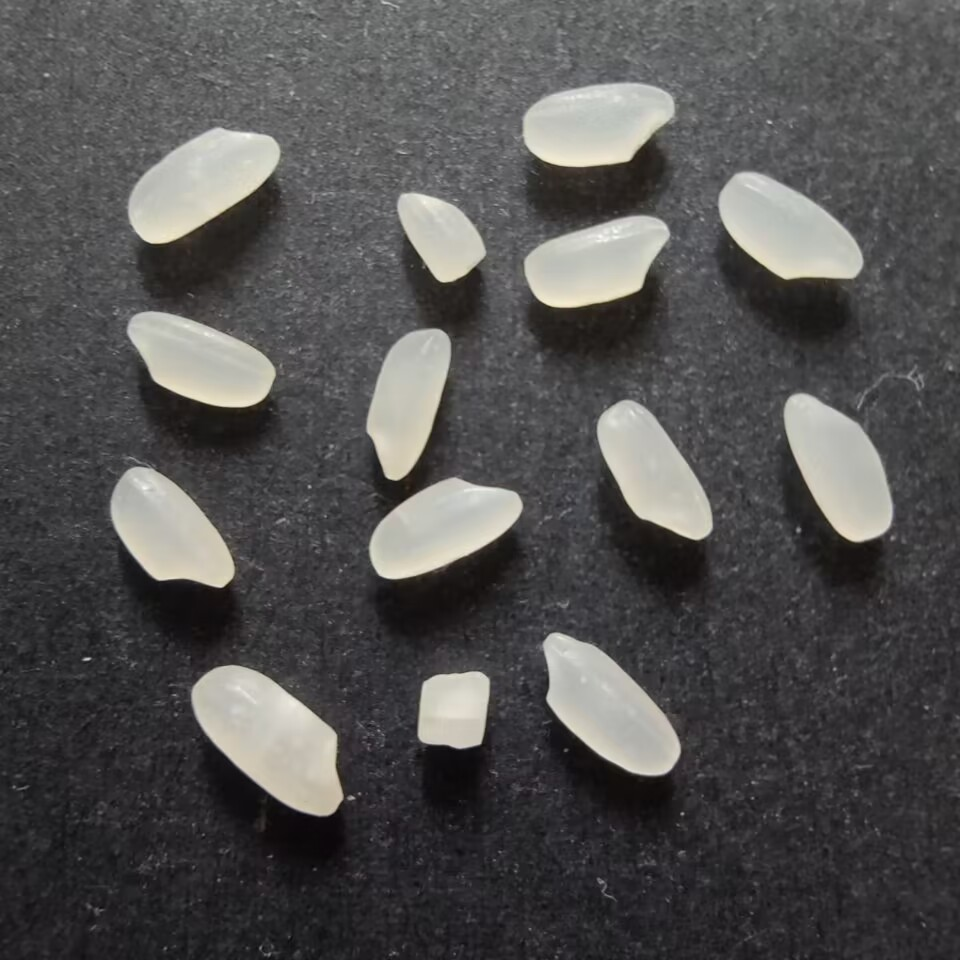broken: (392, 189, 492, 287), (406, 666, 499, 755)
rice: (184, 661, 355, 820), (537, 625, 684, 779), (125, 123, 283, 251), (779, 388, 899, 547), (592, 397, 719, 544), (368, 470, 526, 586), (716, 168, 865, 287), (105, 464, 239, 590), (121, 310, 279, 410), (521, 209, 670, 313), (517, 77, 679, 170), (361, 320, 452, 484)
